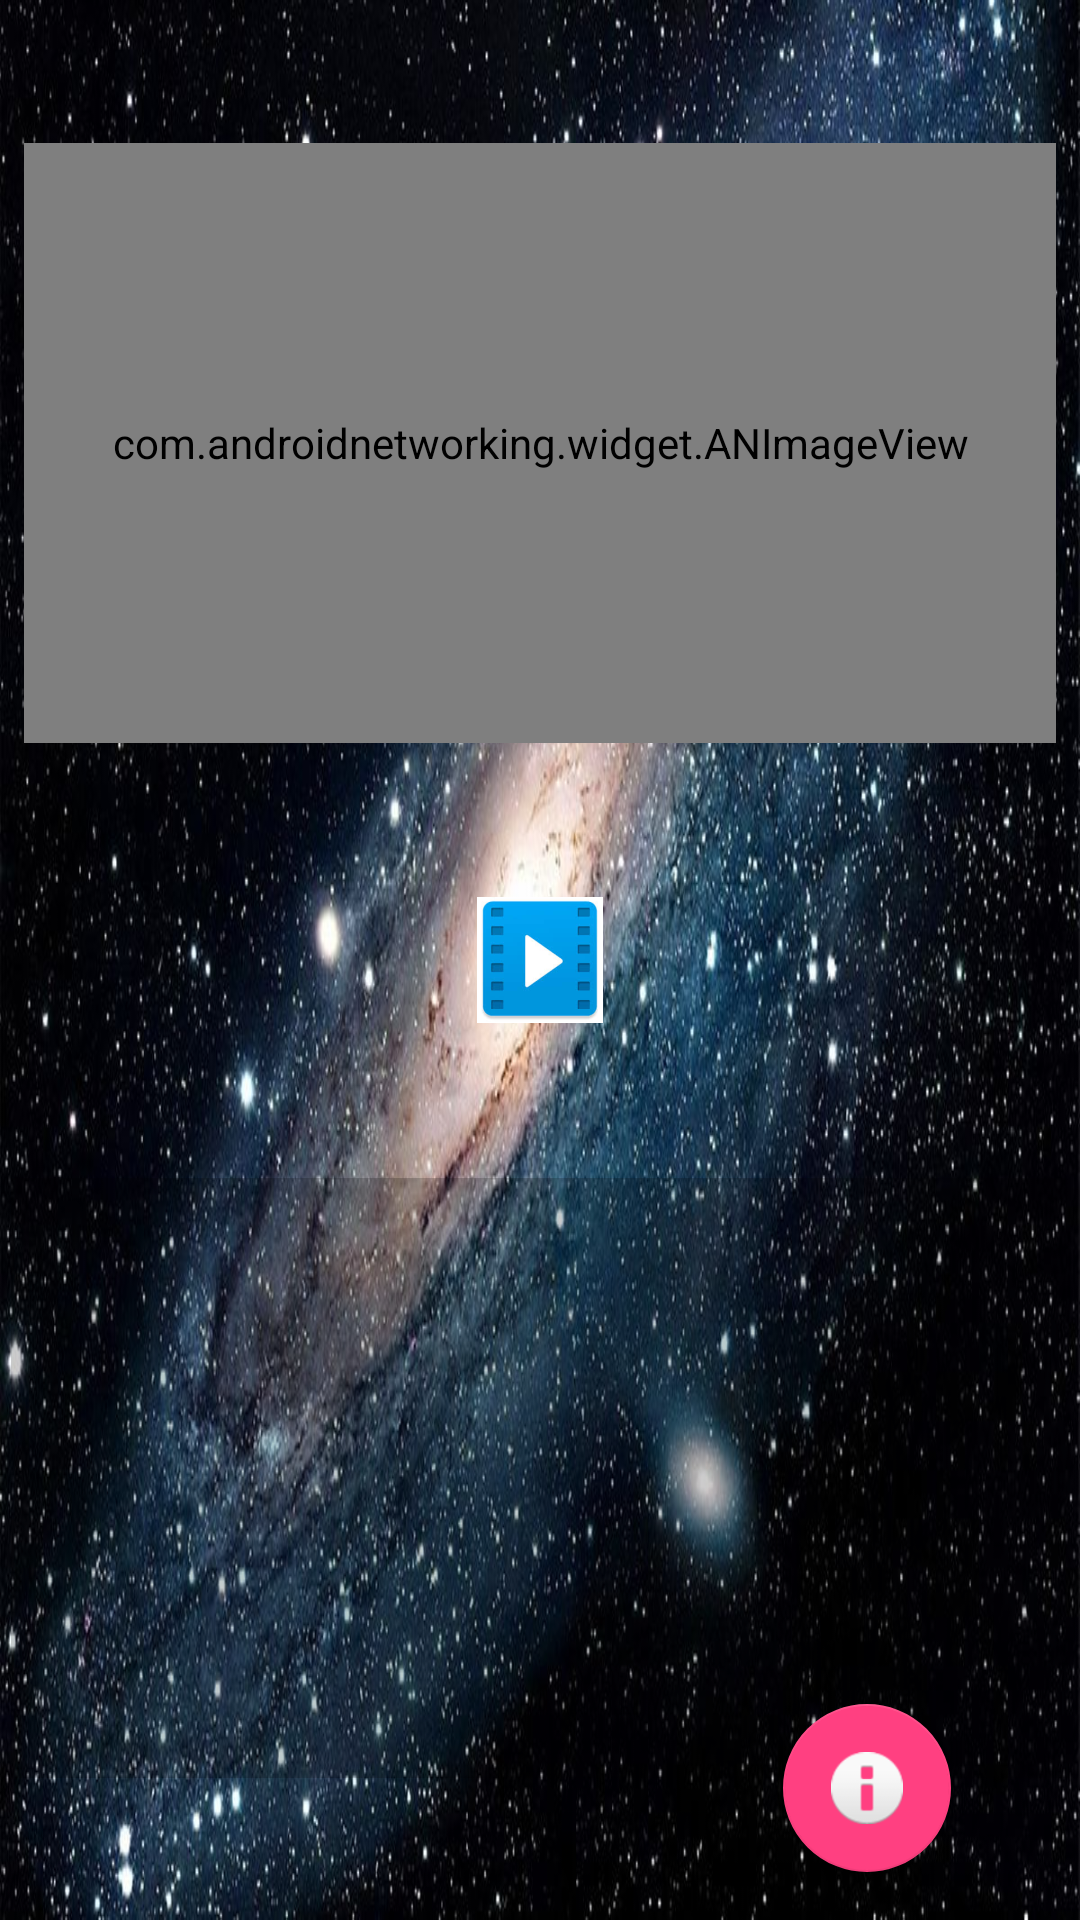

Point at icon controls on the screen. Image size 1080 × 1920, points as [x,y].
info: [867,1788]
video: [540,960]
